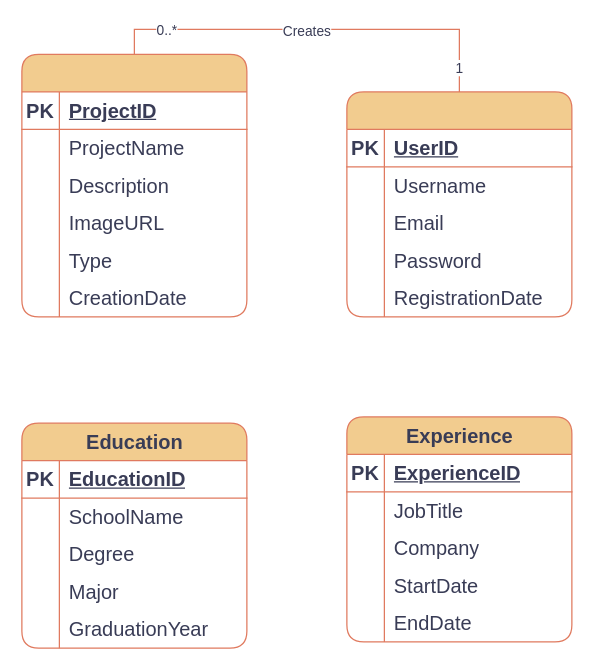
The diagram is 594 pixels wide and 670 high, and some of its shapes have lost their labels. The shapes that lost their labels are listed below. From the top down, each one's box as (x1, y1, x2, y2) in pixels, then its label:
(21, 53, 247, 317): Projects
(346, 91, 572, 317): Users
